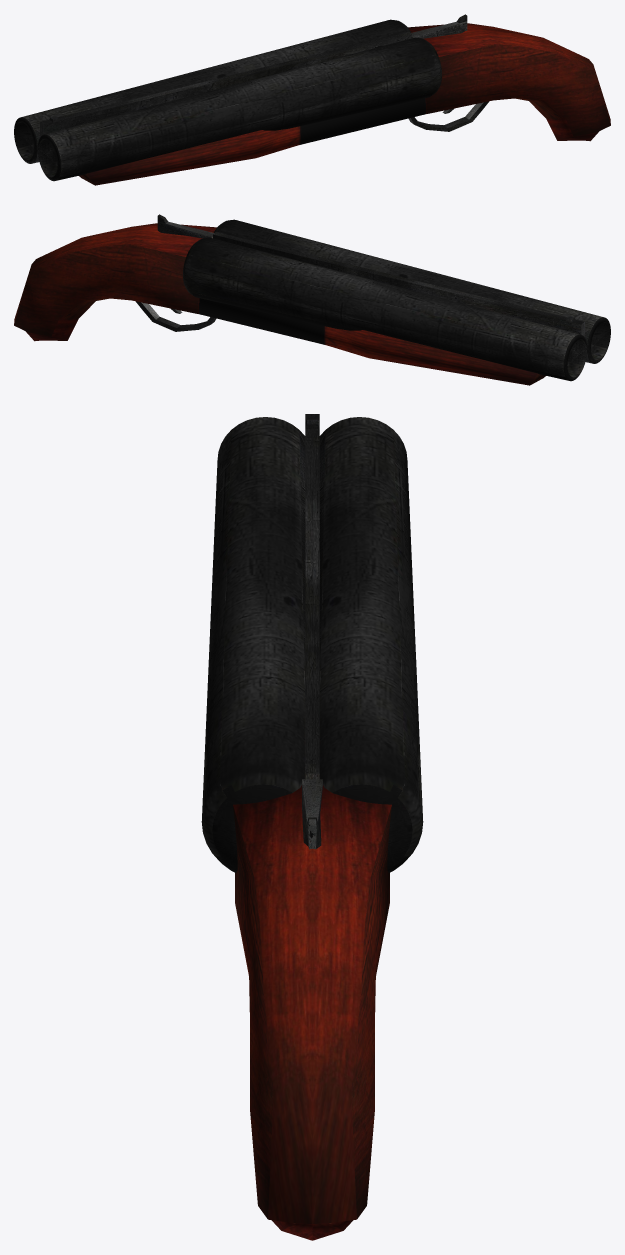
File: ShotgunModel1.fbx
3 views of the same model, one above another, from view 1: azimuth 30°, elevation 25°; view 2: azimuth 150°, elevation 25°; view 3: azimuth 270°, elevation 25° (orthographic). The views are drawn at different scales.
Visible parts, largest first — view 1: Barells, Cube.002, Cube.001, Cube, Cube.003, Cube.004; view 2: Barells, Cube.002, Cube.001, Cube, Cube.003, Cube.004; view 3: Barells, Cube.002, Cube, Cube.004.
Part boxes in pixels (box(x1,y1,x2,y2)): Barells: box(14, 19, 441, 181); Cube.002: box(408, 23, 610, 141); Cube.001: box(79, 98, 425, 185); Cube: box(40, 32, 411, 136); Cube.003: box(408, 101, 488, 131); Cube.004: box(410, 14, 467, 38); Barells: box(183, 219, 610, 381); Cube.002: box(14, 223, 216, 341); Cube.001: box(199, 298, 545, 385); Cube: box(213, 232, 584, 336); Cube.003: box(136, 301, 216, 331); Cube.004: box(157, 214, 214, 238); Barells: box(201, 417, 423, 872); Cube.002: box(233, 785, 391, 1240); Cube: box(305, 414, 319, 779); Cube.004: box(302, 779, 322, 849).
Size of the model in its own units: 1256 by 324 by 211.
5 materials, 5 textured.
